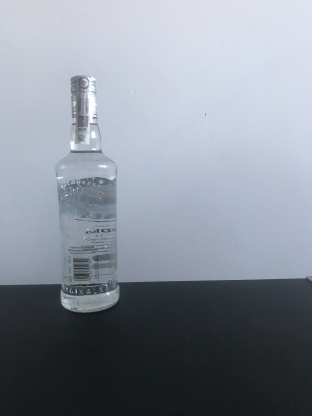nakretka: (68, 72, 99, 121)
